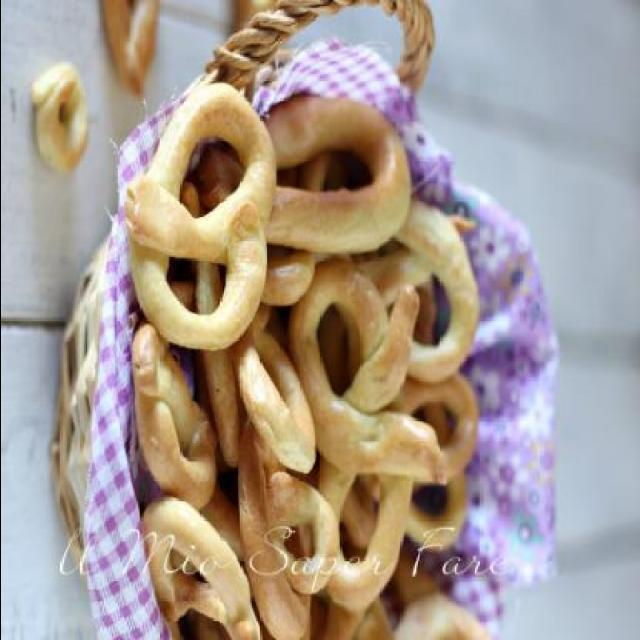Taralli: (132, 95, 482, 628)
